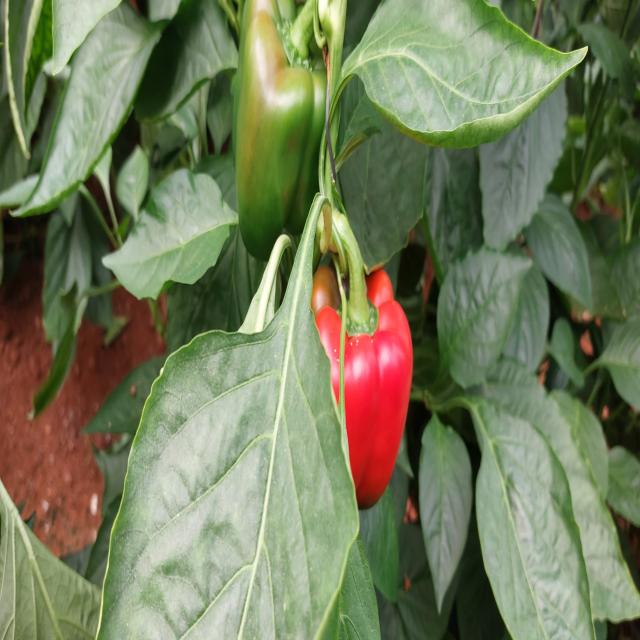Red-Ready-to-Harvest: (306, 263, 416, 519)
